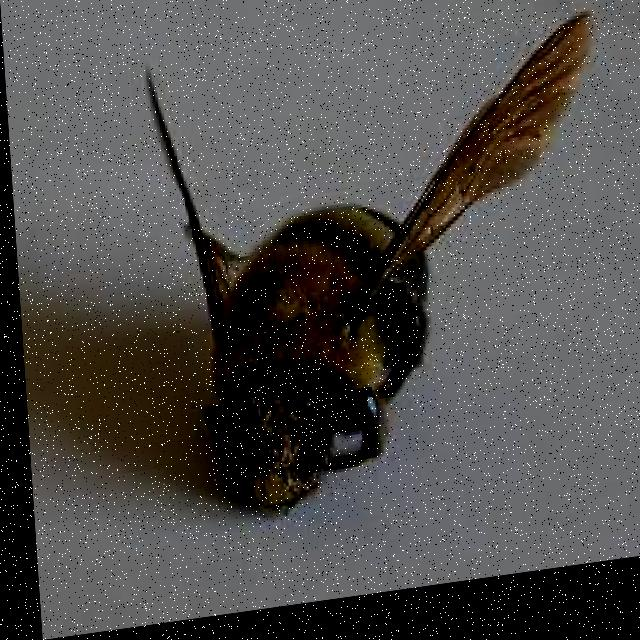Xylocopa: (127, 0, 619, 542)
